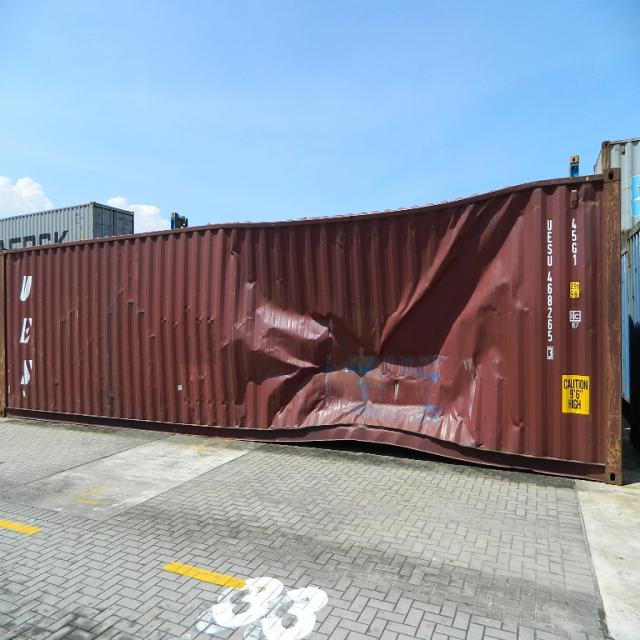dent: (293, 392, 482, 442), (232, 194, 473, 232), (275, 422, 469, 463), (432, 198, 530, 266), (472, 285, 535, 321), (510, 415, 528, 430)
